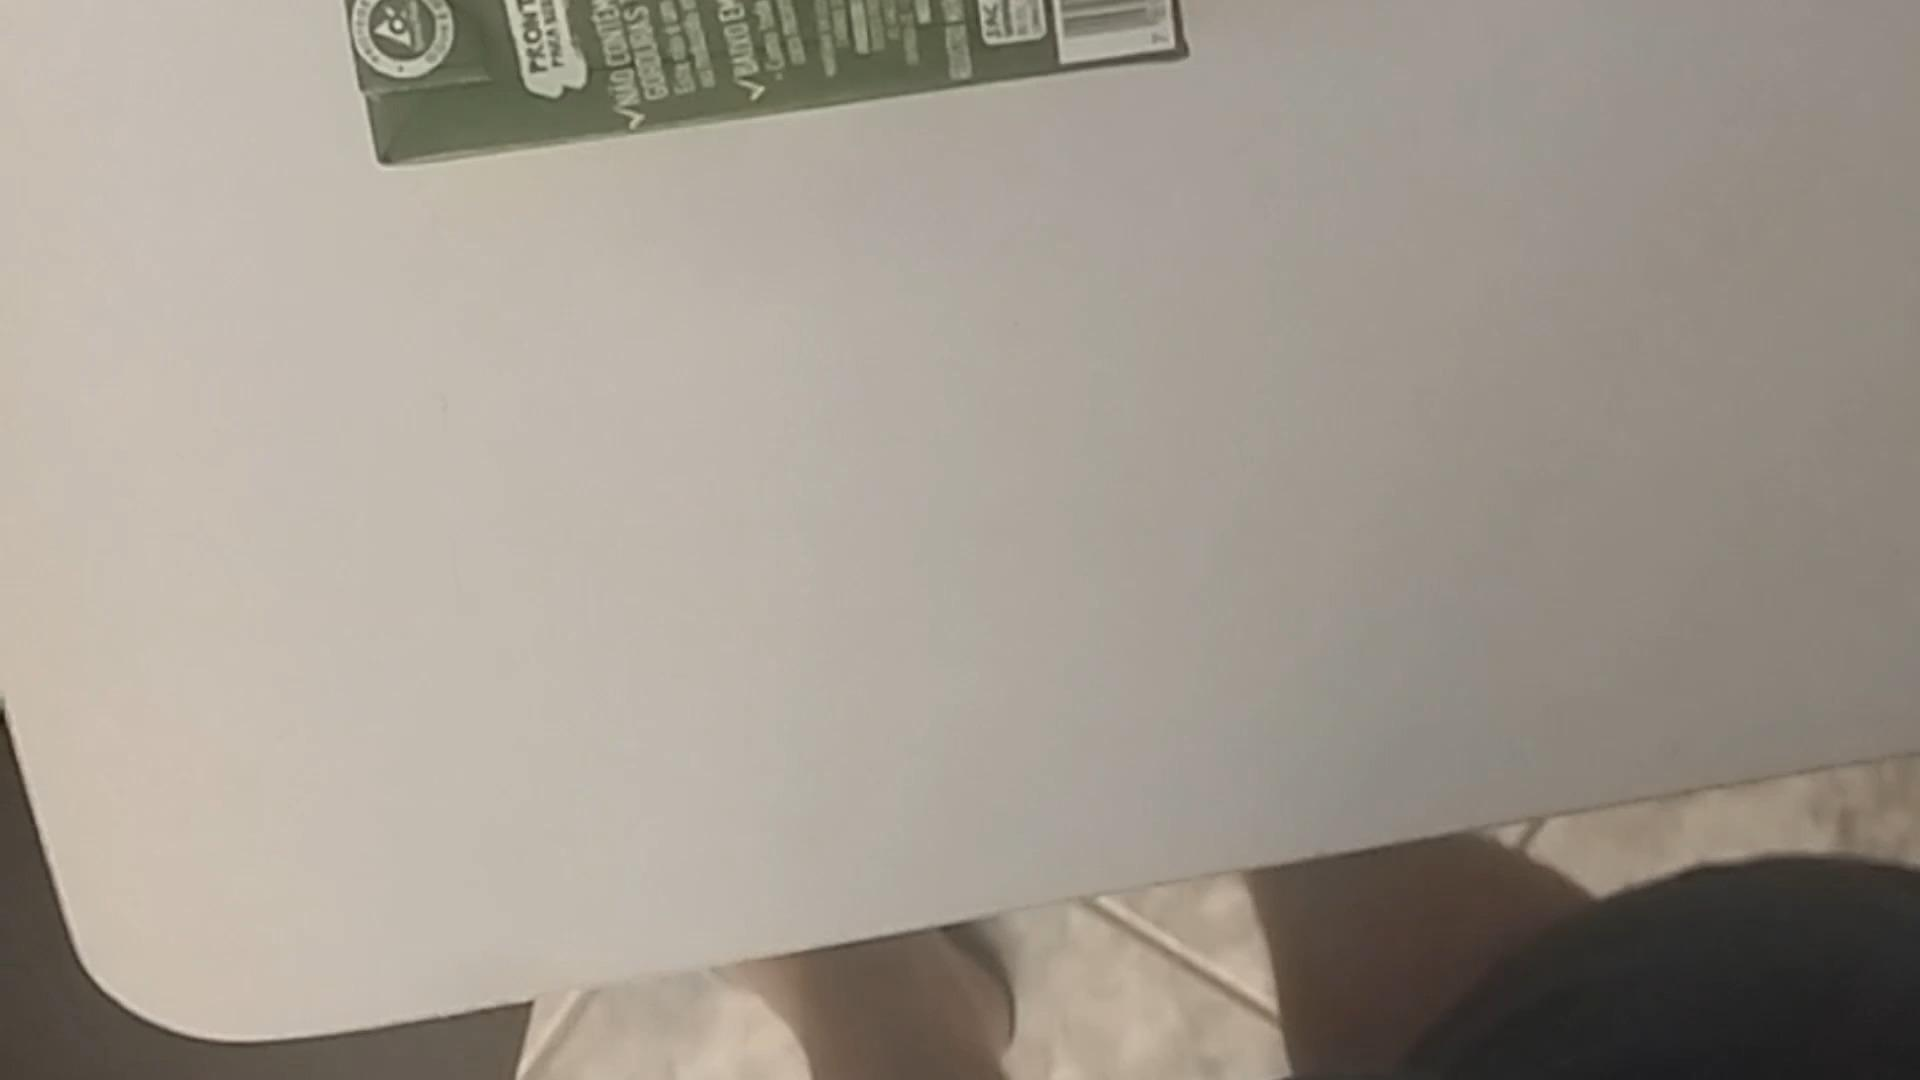coco: (343, 0, 1200, 170)
